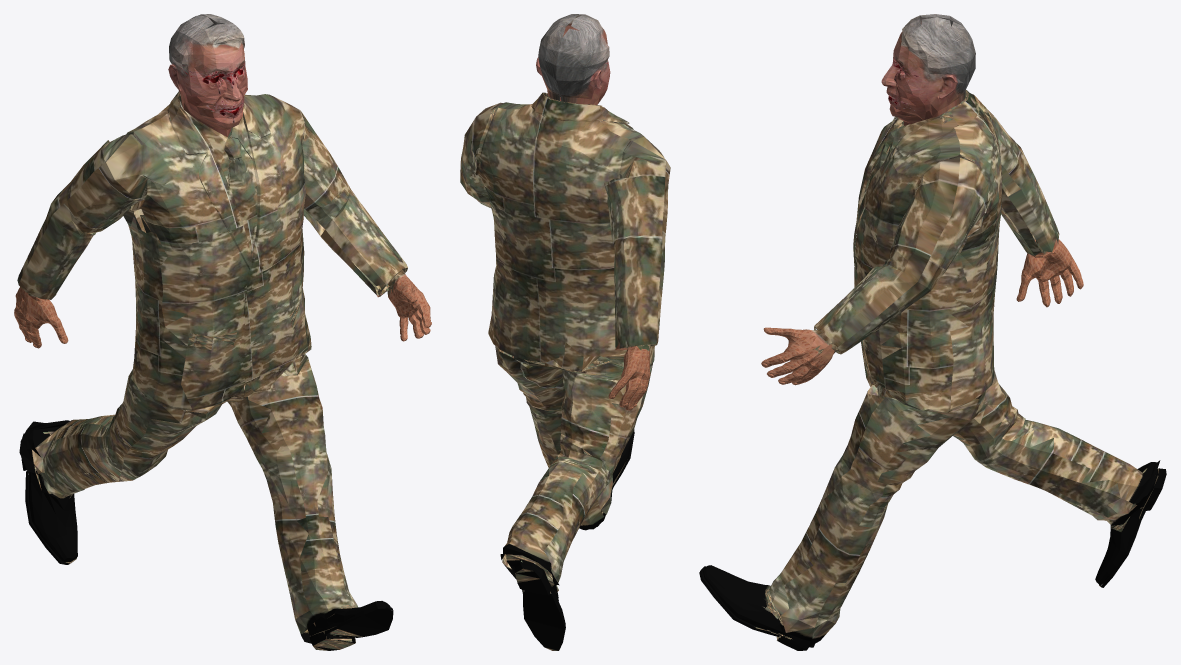
The model's file is zombie_000013.obj.
3 renders of one model, left to right at view 1: azimuth 30°, elevation 25°; view 2: azimuth 150°, elevation 25°; view 3: azimuth 270°, elevation 25°, orthographic. The views are drawn at different scales.
Visible parts, largest first — view 1: Suit_coat_orig_9___De, objGeo_Hea_orig_9___D; view 2: Suit_coat_orig_9___De, objGeo_Hea_orig_9___D; view 3: Suit_coat_orig_9___De, objGeo_Hea_orig_9___D.
Part boxes in pixels (box(x1,y1,x2,y2)): Suit_coat_orig_9___De: box(14, 91, 431, 650); objGeo_Hea_orig_9___D: box(168, 14, 247, 136); Suit_coat_orig_9___De: box(460, 92, 670, 650); objGeo_Hea_orig_9___D: box(536, 14, 610, 104); Suit_coat_orig_9___De: box(699, 90, 1166, 650); objGeo_Hea_orig_9___D: box(881, 14, 975, 125).
Bounding box in the file's own units: 0.8907 × 1.78 × 1.24.
